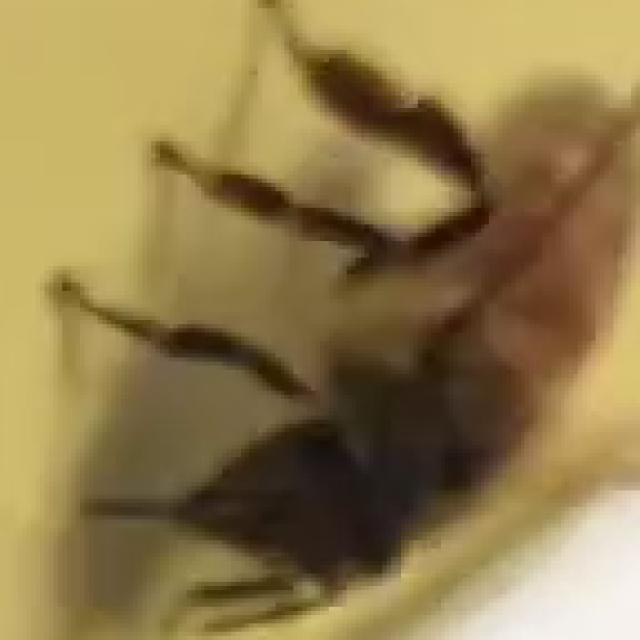honeybee: (56, 66, 572, 614)
